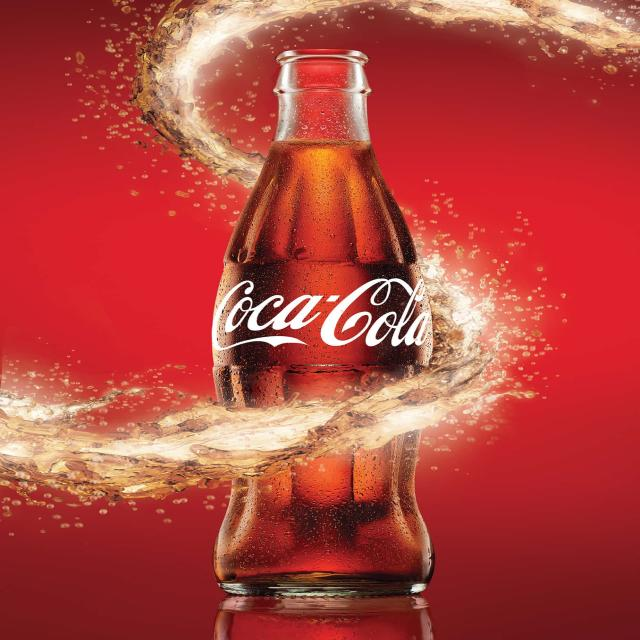coca cola: (212, 278, 428, 355)
